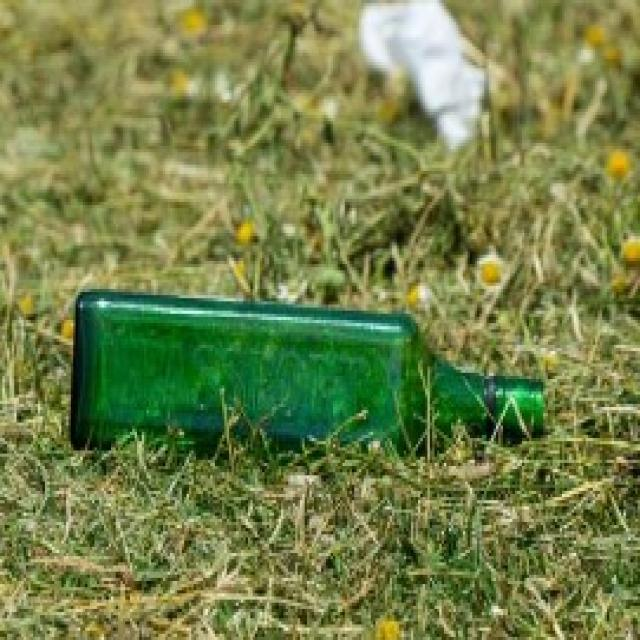electronic: (63, 288, 551, 477)
